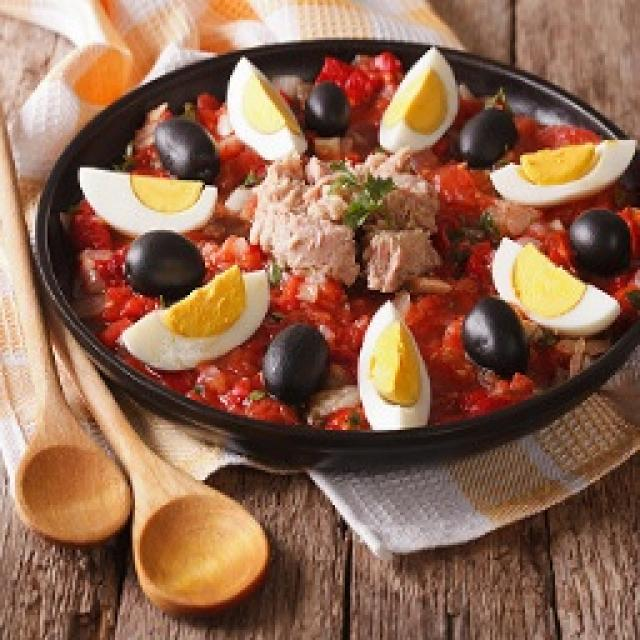Salade mechweya: (64, 48, 640, 431)
